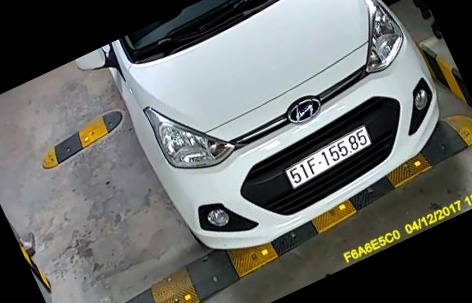plate: (280, 123, 380, 192)
